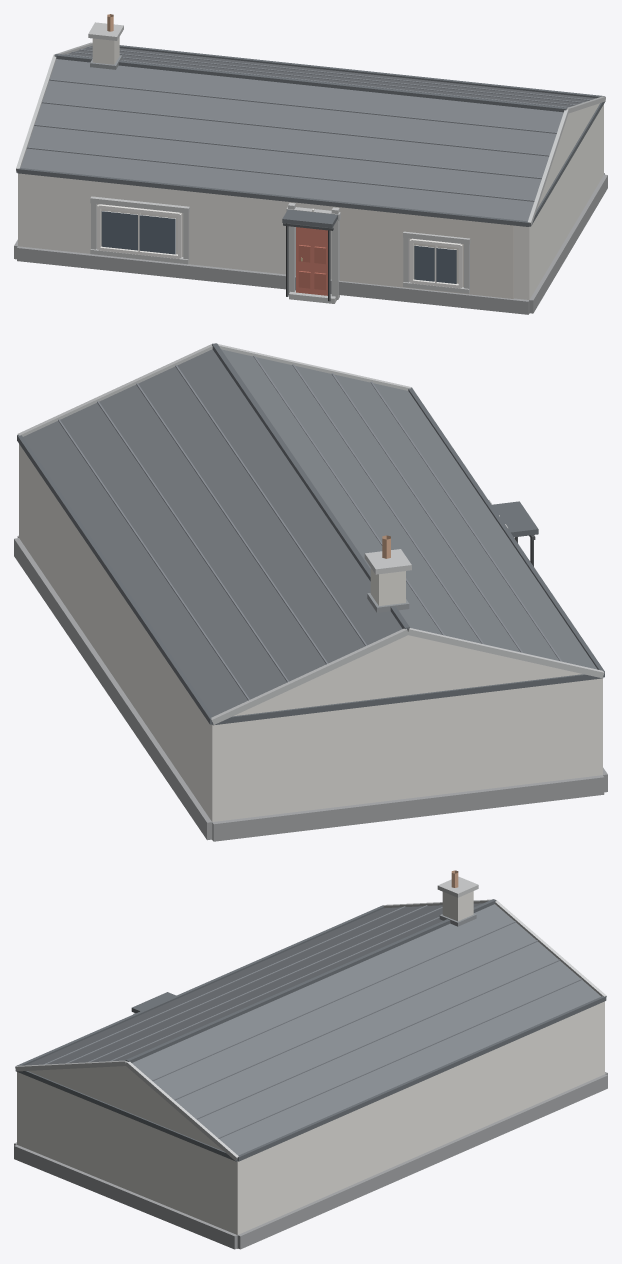
3 renders of one model, top to bottom at view 1: azimuth 30°, elevation 25°; view 2: azimuth 150°, elevation 25°; view 3: azimuth 270°, elevation 25°, orthographic. The views are drawn at different scales.
Parts seen in each view (by area): view 1: slate, harl, harl_grey, slate_dk, plinth, slate_lt, stone_band, frame, door_red, window_glass_004, window_glass_005, door_red_p (+4 smaller); view 2: slate, harl, plinth, slate_dk, slate_lt, stone_band, chim_render; view 3: slate, harl, plinth, slate_dk, slate_lt, stone_band, chim_render.
Part boxes in pixels (bbox=[...]): slate: bbox=[20, 46, 595, 221]; harl: bbox=[18, 103, 603, 313]; harl_grey: bbox=[339, 207, 513, 298]; slate_dk: bbox=[16, 45, 605, 227]; plinth: bbox=[14, 173, 607, 314]; slate_lt: bbox=[27, 46, 591, 201]; stone_band: bbox=[16, 22, 605, 303]; frame: bbox=[97, 204, 462, 288]; door_red: bbox=[296, 227, 327, 295]; window_glass_004: bbox=[139, 215, 175, 254]; window_glass_005: bbox=[101, 211, 137, 250]; door_red_p: bbox=[298, 245, 326, 290]; slate: bbox=[23, 349, 597, 716]; harl: bbox=[19, 444, 602, 840]; plinth: bbox=[14, 535, 607, 841]; slate_dk: bbox=[17, 343, 604, 725]; slate_lt: bbox=[58, 355, 561, 700]; stone_band: bbox=[17, 344, 604, 724]; chim_render: bbox=[370, 567, 405, 605]; slate: bbox=[26, 903, 600, 1155]; harl: bbox=[17, 1001, 604, 1248]; plinth: bbox=[14, 1072, 607, 1249]; slate_dk: bbox=[15, 899, 606, 1161]; slate_lt: bbox=[43, 905, 582, 1138]; stone_band: bbox=[15, 876, 606, 1161]; chim_render: bbox=[442, 891, 473, 921].
Bounding box in the file's own units: 16.46 × 5.86 × 16.28.
